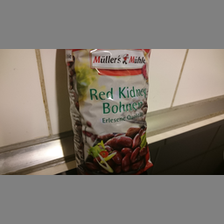beans: (65, 49, 155, 174)
